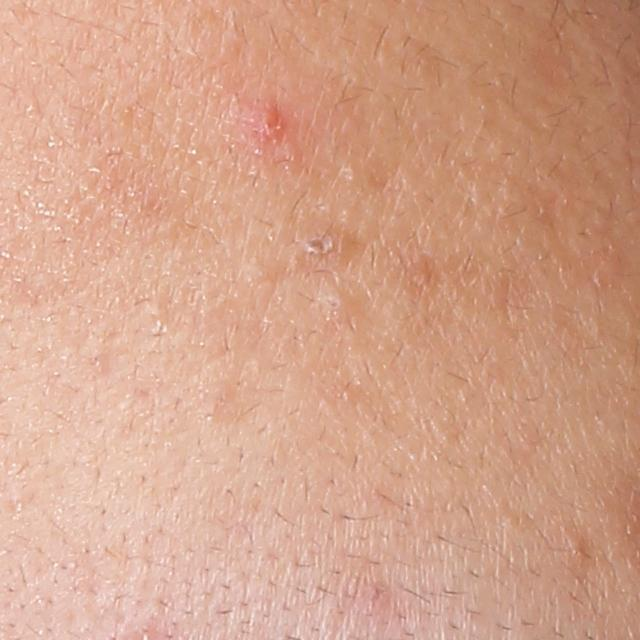comedo: (567, 536, 585, 563)
papule: (252, 105, 284, 143)
